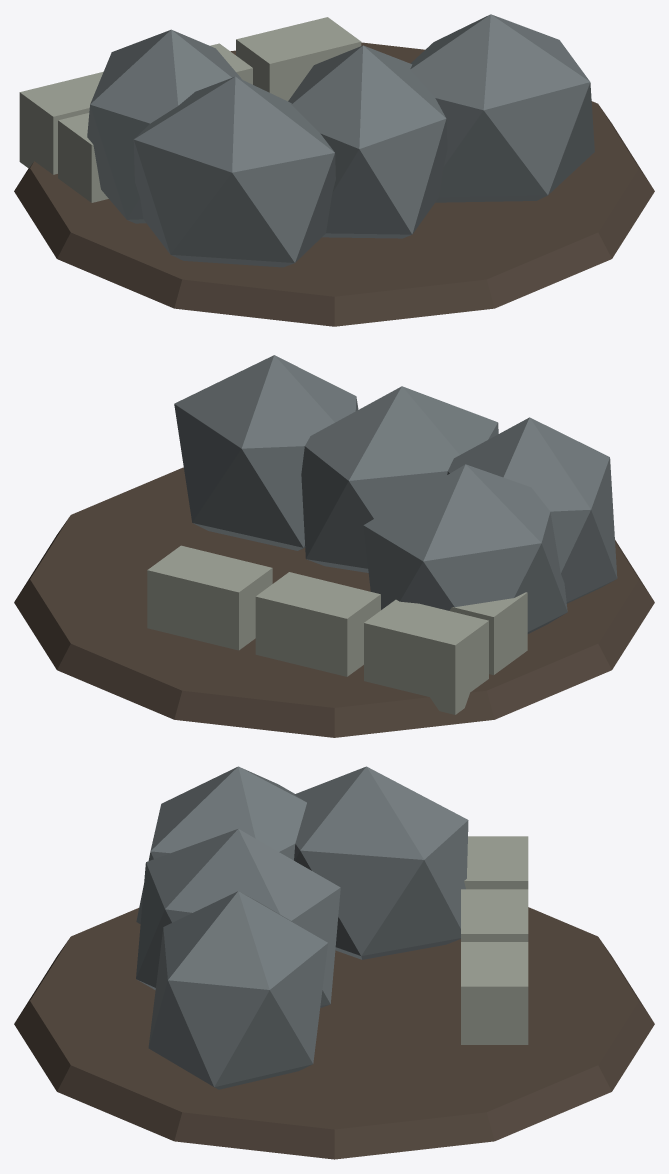
File: Field_Stone_2.fbx
3 views of the same model, one above another, from view 1: azimuth 30°, elevation 25°; view 2: azimuth 150°, elevation 25°; view 3: azimuth 270°, elevation 25° (orthographic).
Parts seen in each view (by area): view 1: Field_Stone_2; view 2: Field_Stone_2; view 3: Field_Stone_2.
Part boxes in pixels (x1,y1,x2,y2): Field_Stone_2: (14, 14, 654, 326); Field_Stone_2: (14, 355, 654, 737); Field_Stone_2: (14, 766, 654, 1159).
Size of the model in its own units: 2 by 0.72 by 2.
Materials: 1 (1 with a texture image).
